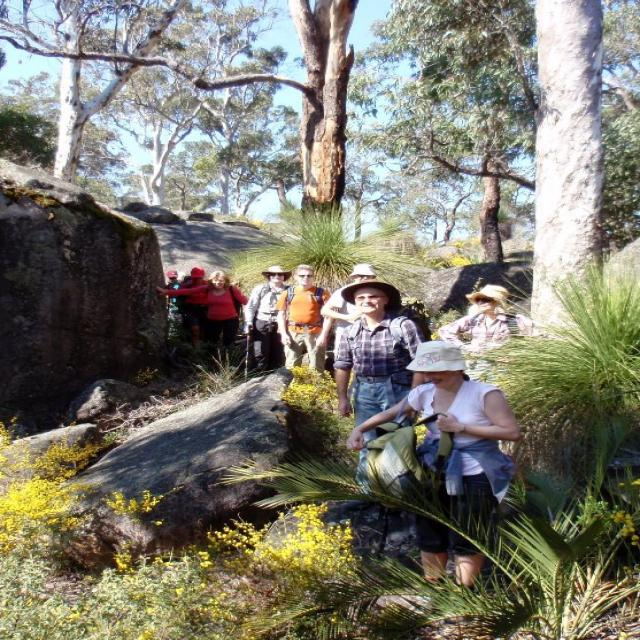body: (344, 338, 520, 591), (327, 278, 431, 498), (153, 269, 250, 358), (317, 262, 379, 400), (435, 284, 532, 355), (275, 264, 334, 374), (242, 265, 293, 378), (177, 266, 211, 351), (162, 268, 185, 337)
